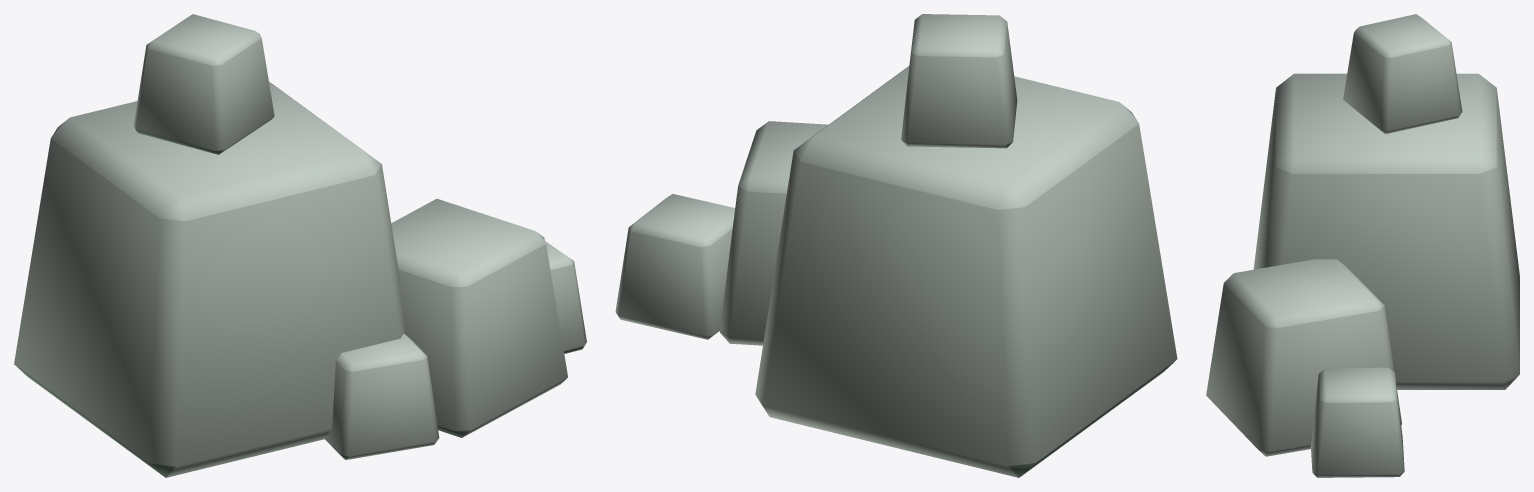
The model's file is formedRock-09_col.fbx.
The picture shows the model from 3 angles, left to right: view 1: azimuth 30°, elevation 25°; view 2: azimuth 150°, elevation 25°; view 3: azimuth 270°, elevation 25°; orthographic projection. The views are drawn at different scales.
Visible parts, largest first — view 1: formedRock-09.col; view 2: formedRock-09.col; view 3: formedRock-09.col.
Boxes of the visible parts, bbox=[...] form: formedRock-09.col: bbox=[14, 14, 586, 477]; formedRock-09.col: bbox=[615, 14, 1177, 477]; formedRock-09.col: bbox=[1206, 14, 1519, 477].
Size of the model in its own units: 0.2885 by 0.214 by 0.1958.
Materials: 1 (1 with a texture image).
